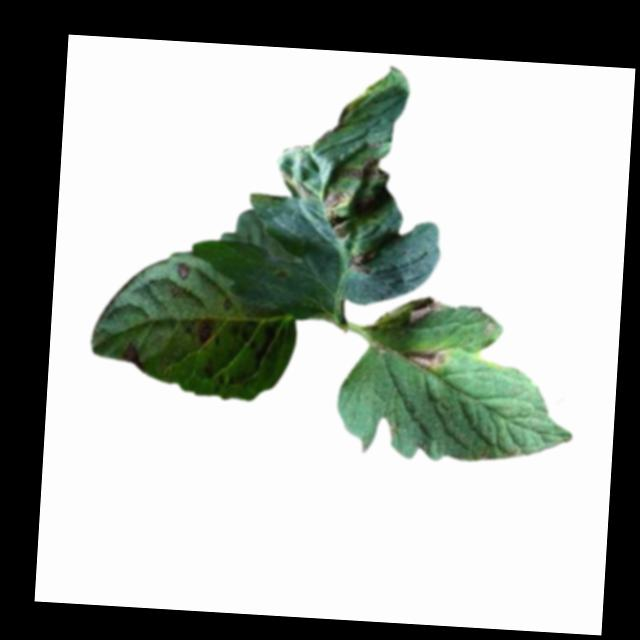Early_blight: (321, 190, 353, 239), (343, 154, 390, 183), (405, 343, 448, 371), (405, 294, 443, 325), (344, 252, 377, 275), (193, 315, 215, 346), (123, 339, 144, 369), (174, 263, 192, 281)
